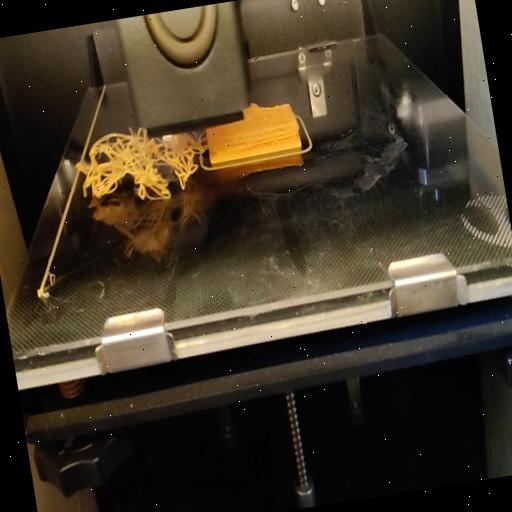spaghetti: (72, 120, 206, 214)
